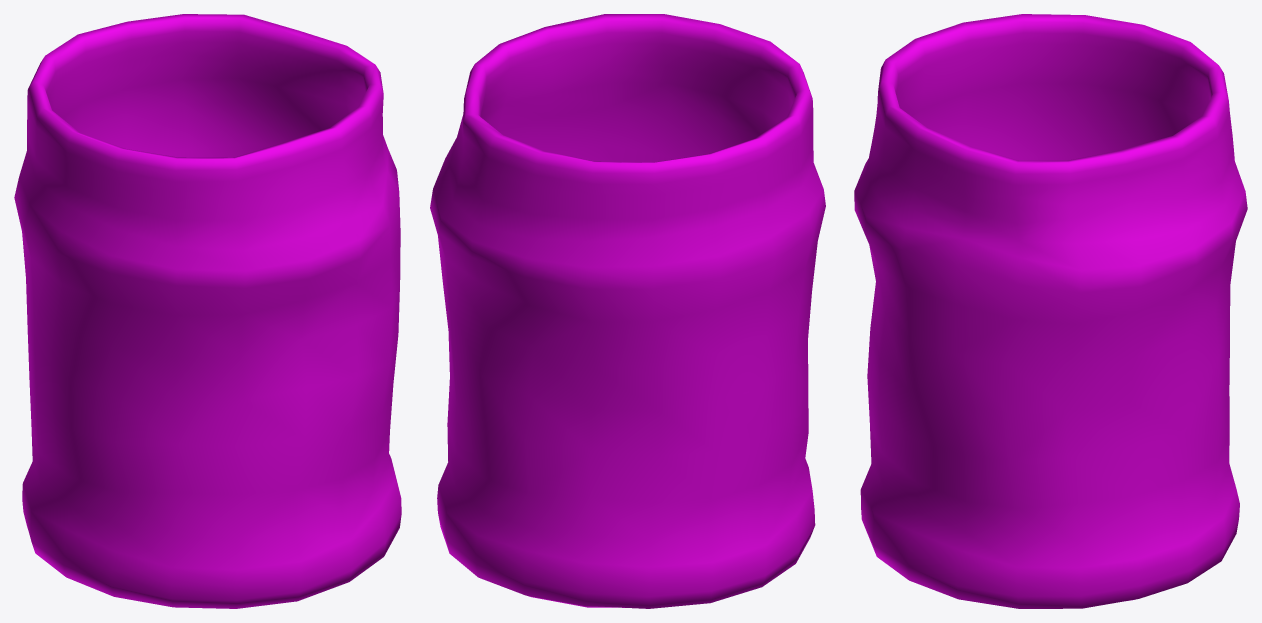
The model's file is cuerpo tacho lowpoly.fbx.
The picture shows the model from 3 angles, left to right: view 1: azimuth 30°, elevation 25°; view 2: azimuth 150°, elevation 25°; view 3: azimuth 270°, elevation 25°; orthographic projection.
Visible parts, largest first — view 1: cuerpotacho; view 2: cuerpotacho; view 3: cuerpotacho.
Boxes of the visible parts, x1=… form: cuerpotacho: x1=14, y1=14, x2=401, y2=608; cuerpotacho: x1=430, y1=14, x2=825, y2=608; cuerpotacho: x1=854, y1=14, x2=1247, y2=608.
Size of the model in its own units: 5.01 by 6.43 by 5.04.
